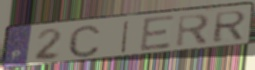2: (33, 27, 64, 62)
C: (67, 23, 103, 59)
E: (138, 14, 177, 54)
I: (119, 19, 132, 55)
R: (174, 13, 212, 50), (212, 9, 249, 45)
